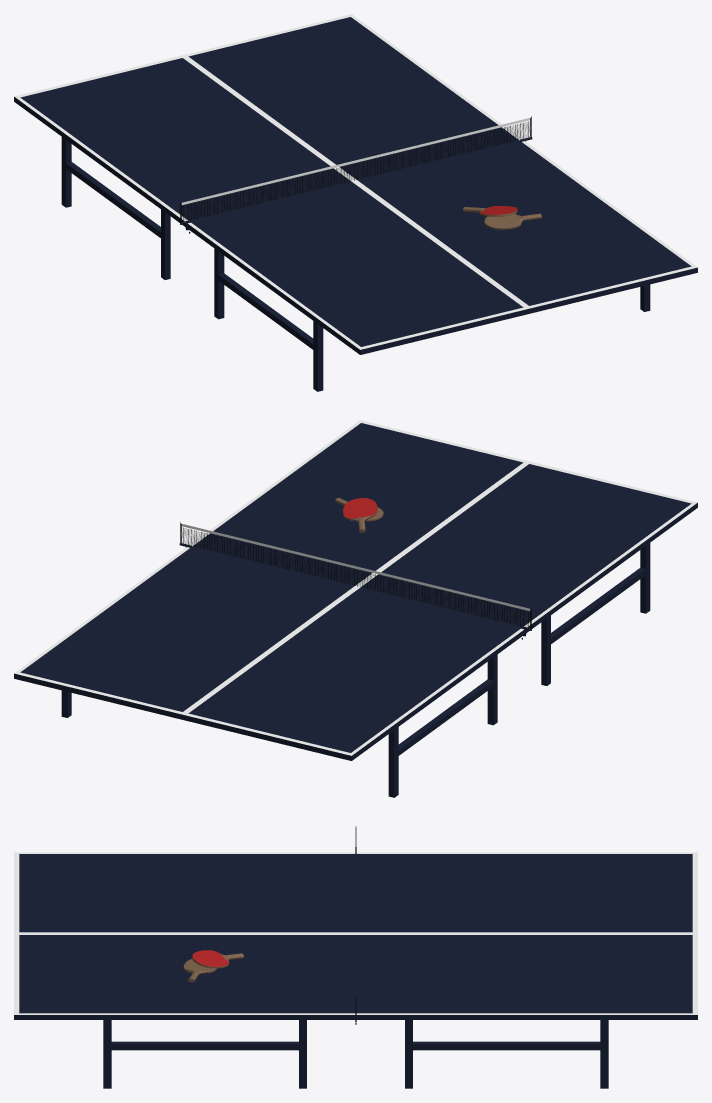
File: table_tennis.fbx
3 views of the same model, one above another, from view 1: azimuth 30°, elevation 25°; view 2: azimuth 150°, elevation 25°; view 3: azimuth 270°, elevation 25° (orthographic).
Parts seen in each view (by area): view 1: TT; view 2: TT; view 3: TT.
Boxes of the visible parts, x1,y1,x2,y2 form: TT: (14, 14, 697, 391); TT: (14, 420, 697, 797); TT: (14, 826, 697, 1088).
Size of the model in its own units: 321 by 86.07 by 548.
